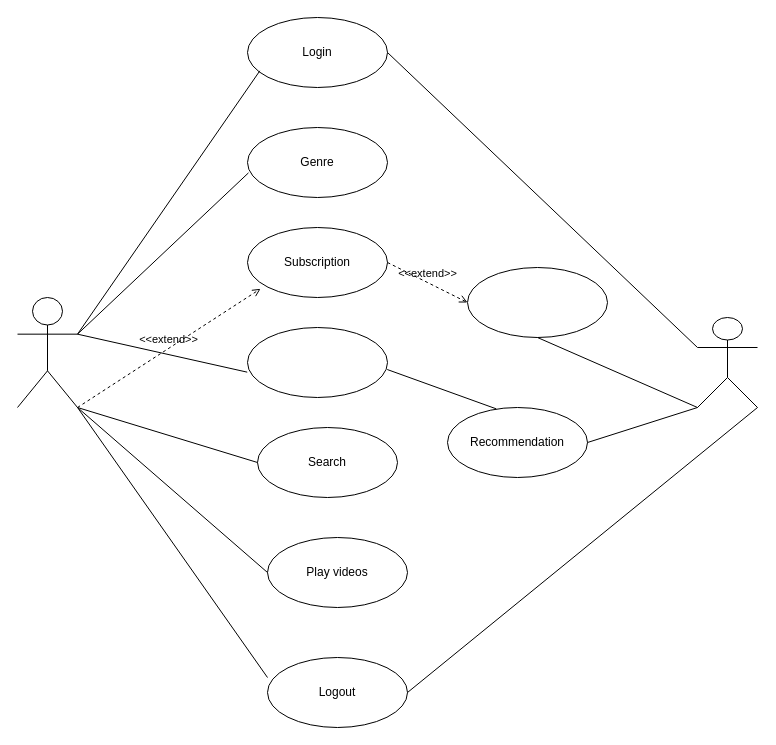
Image size: 776x745. Some labels were removed from this diagram. The centre of each missing label's shape, as x and y in pixels:
"Admin" goes at (x=727, y=362).
"Cancel Subscription" goes at (x=537, y=302).
"Categories" goes at (x=317, y=362).
"users" goes at (x=47, y=352).
